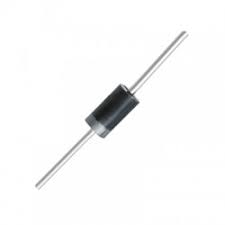diode: (49, 58, 157, 146)
